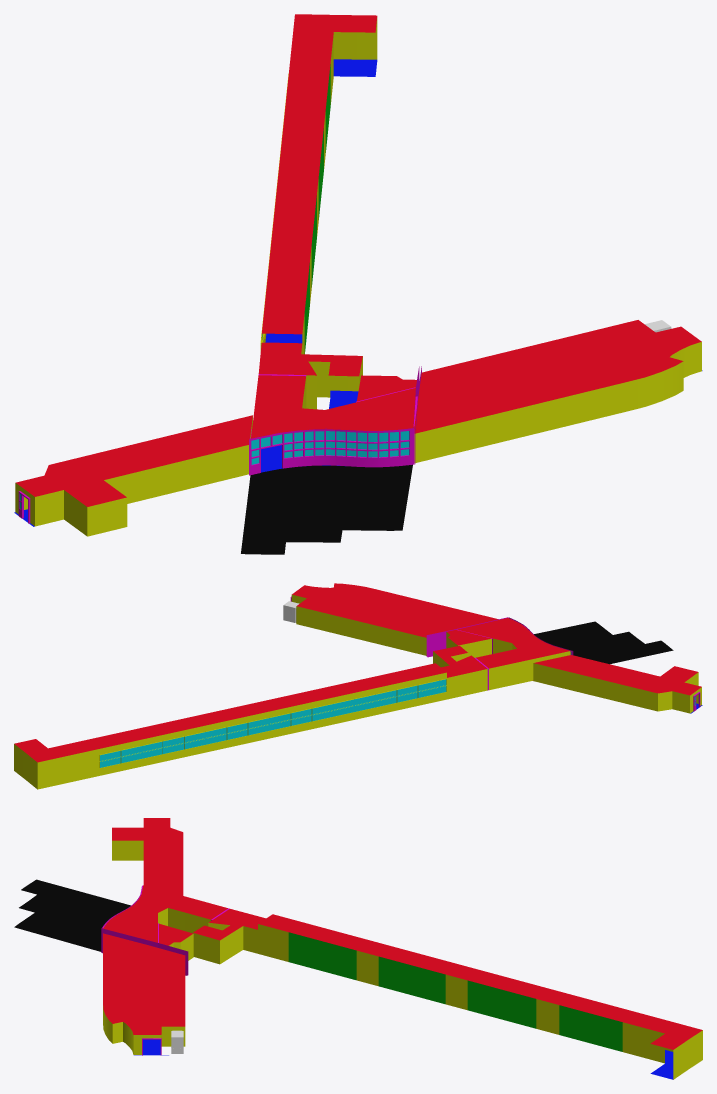
The model's file is GBW LvL1.fbx.
3 views of the same model, one above another, from view 1: azimuth 30°, elevation 25°; view 2: azimuth 150°, elevation 25°; view 3: azimuth 270°, elevation 25° (orthographic). The views are drawn at different scales.
Visible parts, largest first — view 1: GBWB F1Plafond, GBWB F1Muren, GBWB F1???, MainmenuRamen, MainmenuRamen(Ramen), GBWB F1Vloer; view 2: GBWB F1Plafond, GBWB F1Muren, BrugRaam, GBWB F1???, HallwayBoarder; view 3: GBWB F1Plafond, GBWB F1Muren, GBWB F1???, GBWB F1Vloer, HallwayBoarder.
Boxes of the visible parts, bbox=[...] form: GBWB F1Plafond: bbox=[16, 14, 701, 506]; GBWB F1Muren: bbox=[15, 18, 701, 536]; GBWB F1???: bbox=[241, 464, 412, 554]; MainmenuRamen: bbox=[249, 428, 414, 475]; MainmenuRamen(Ramen): bbox=[251, 431, 409, 464]; GBWB F1Vloer: bbox=[14, 59, 702, 526]; GBWB F1Plafond: bbox=[14, 583, 701, 762]; GBWB F1Muren: bbox=[14, 594, 701, 789]; BrugRaam: bbox=[100, 679, 446, 767]; GBWB F1???: bbox=[534, 621, 673, 664]; HallwayBoarder: bbox=[426, 617, 508, 657]; GBWB F1Plafond: bbox=[103, 818, 702, 1049]; GBWB F1Muren: bbox=[103, 840, 702, 1079]; GBWB F1???: bbox=[14, 879, 130, 951]; GBWB F1Vloer: bbox=[134, 1039, 673, 1079]; HallwayBoarder: bbox=[101, 928, 188, 975].
Size of the model in its own units: 6520 by 376 by 7828.
